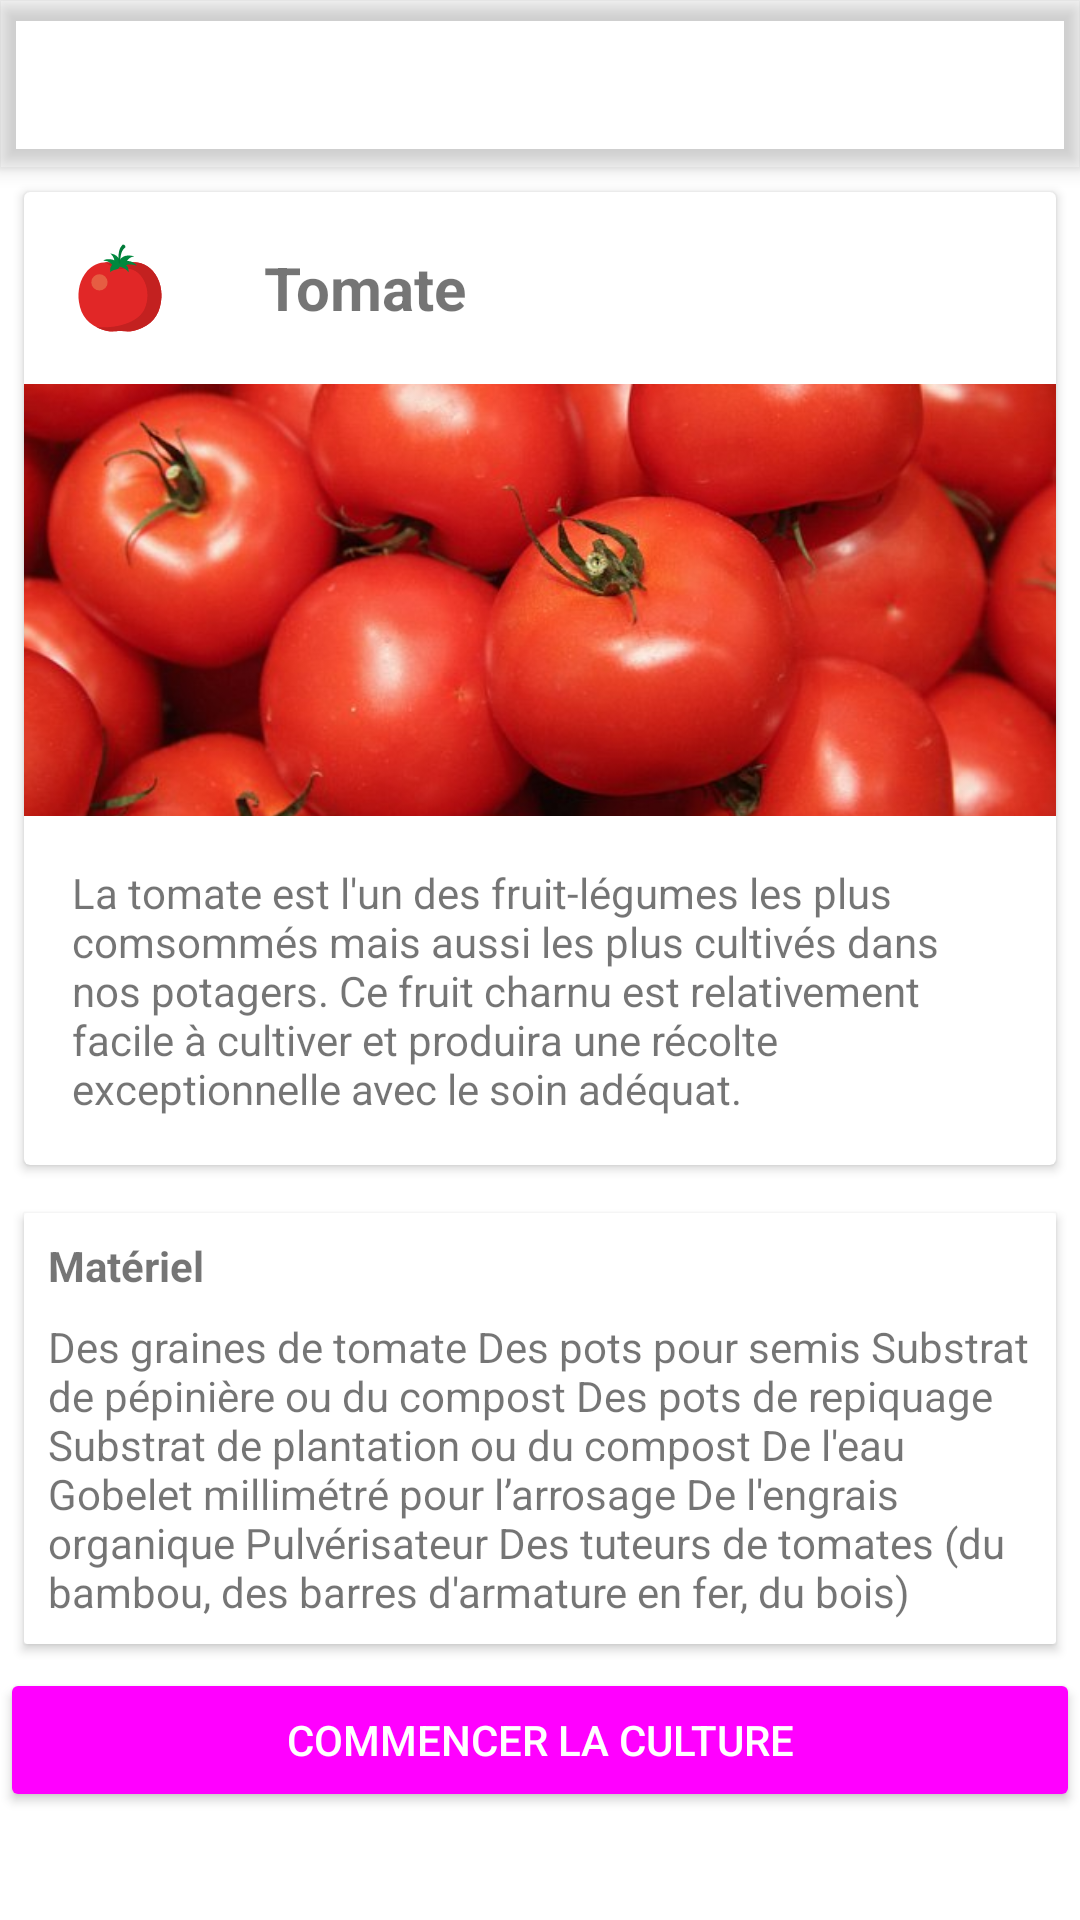

Named icons in this screenshot (1080x1920) and their bounding boxes, rect(x1, y1, x2, y2):
tomato: rect(78, 244, 162, 332)
